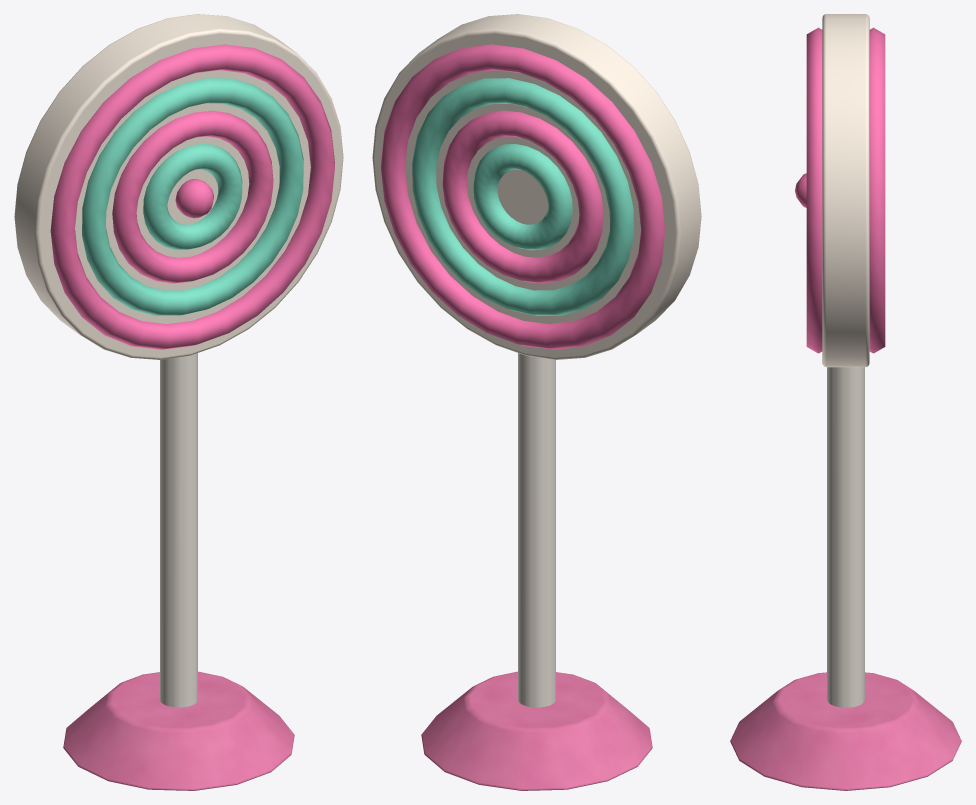
File: lollipop_tree.glb
3 renders of one model, left to right at view 1: azimuth 30°, elevation 25°; view 2: azimuth 150°, elevation 25°; view 3: azimuth 270°, elevation 25°, orthographic.
Visible parts, largest first — view 1: lollipop_tree_body; view 2: lollipop_tree_body; view 3: lollipop_tree_body.
Boxes of the visible parts, x1,y1,x2,y2 form: lollipop_tree_body: [14, 14, 343, 790]; lollipop_tree_body: [372, 14, 701, 790]; lollipop_tree_body: [730, 14, 961, 790].
Bounding box in the file's own units: 0.9 × 2 × 0.5901.
Materials: 5 (1 with a texture image).
